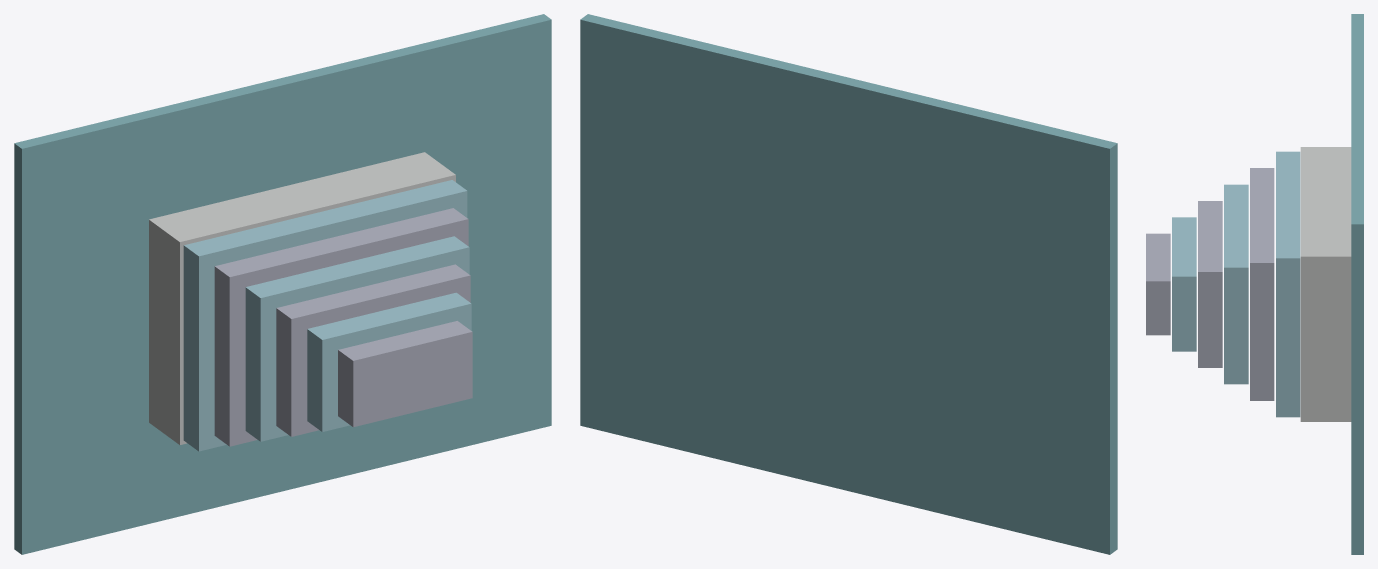
3 renders of one model, left to right at view 1: azimuth 30°, elevation 25°; view 2: azimuth 150°, elevation 25°; view 3: azimuth 270°, elevation 25°, orthographic. The views are drawn at different scales.
Parts seen in each view (by area): view 1: section_00, section_01, section_02, section_03, section_07, section_04, section_05, section_06; view 2: section_00; view 3: section_01, section_00, section_02, section_03, section_04, section_05, section_06, section_07.
Boxes of the visible parts, box(x1,y1,x2,y2) form: section_00: box(14, 14, 551, 554); section_01: box(149, 152, 455, 444); section_02: box(183, 180, 467, 451); section_03: box(214, 208, 468, 446); section_07: box(338, 321, 472, 427); section_04: box(245, 236, 469, 441); section_05: box(276, 264, 470, 436); section_06: box(307, 292, 471, 431); section_00: box(580, 14, 1117, 554); section_01: box(1300, 147, 1351, 421); section_00: box(1351, 14, 1363, 554); section_02: box(1276, 151, 1300, 417); section_03: box(1250, 168, 1274, 400); section_04: box(1224, 184, 1248, 384); section_05: box(1198, 201, 1222, 367); section_06: box(1172, 217, 1196, 351); section_07: box(1146, 233, 1170, 335).
Bounding box in the file's own units: 7.1 × 5.2 × 3.1.
